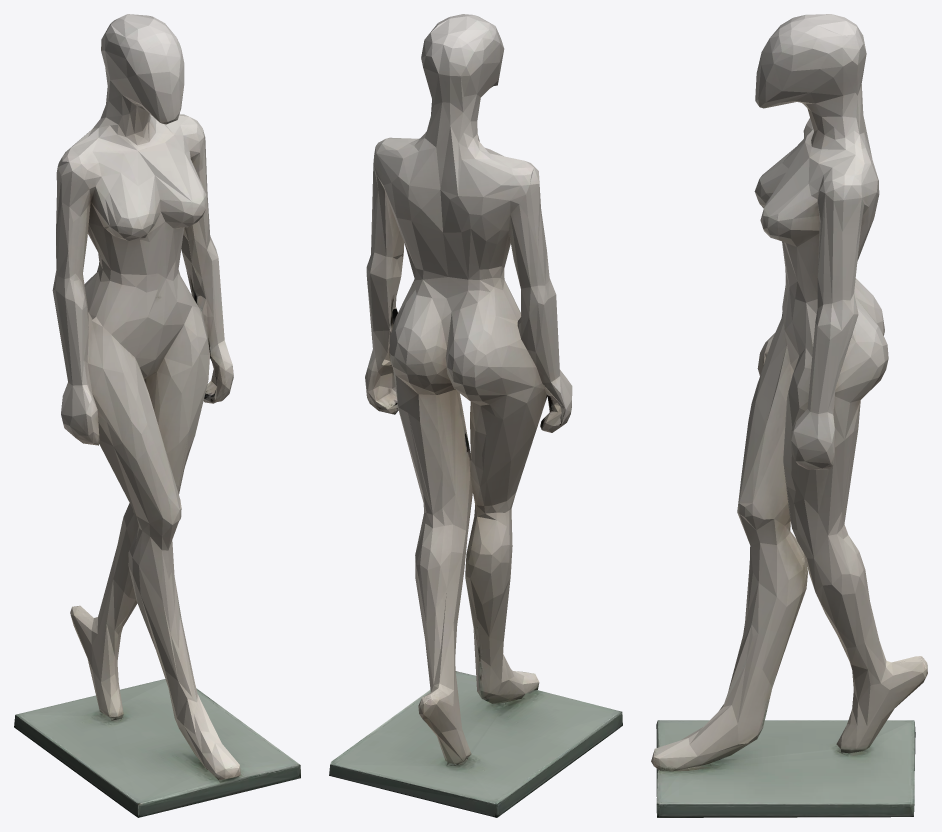
3 views of the same model, side by side, from view 1: azimuth 30°, elevation 25°; view 2: azimuth 150°, elevation 25°; view 3: azimuth 270°, elevation 25° (orthographic). The views are drawn at different scales.
Visible parts, largest first — view 1: geometry_0; view 2: geometry_0; view 3: geometry_0.
Part boxes in pixels (bbox=[...]): geometry_0: bbox=[14, 14, 300, 817]; geometry_0: bbox=[329, 14, 622, 817]; geometry_0: bbox=[651, 14, 927, 817].
Bounding box in the file's own units: 0.2604 × 0.9992 × 0.3311.
1 material, 1 textured.
